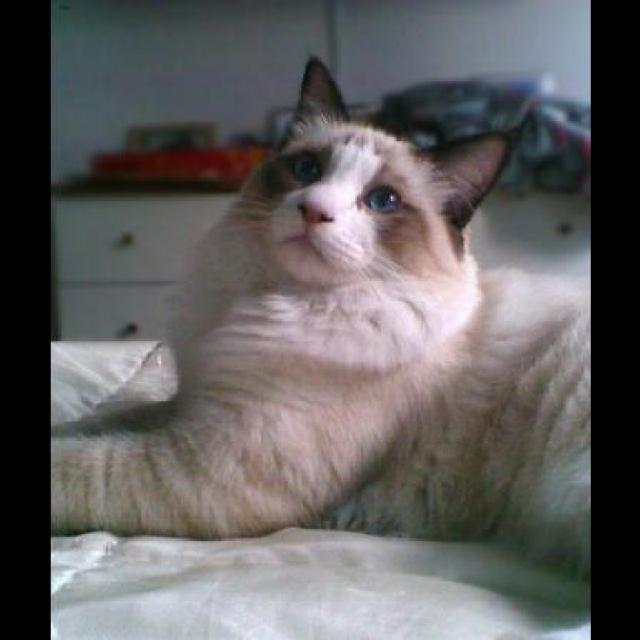unauthorized: (49, 54, 589, 580)
